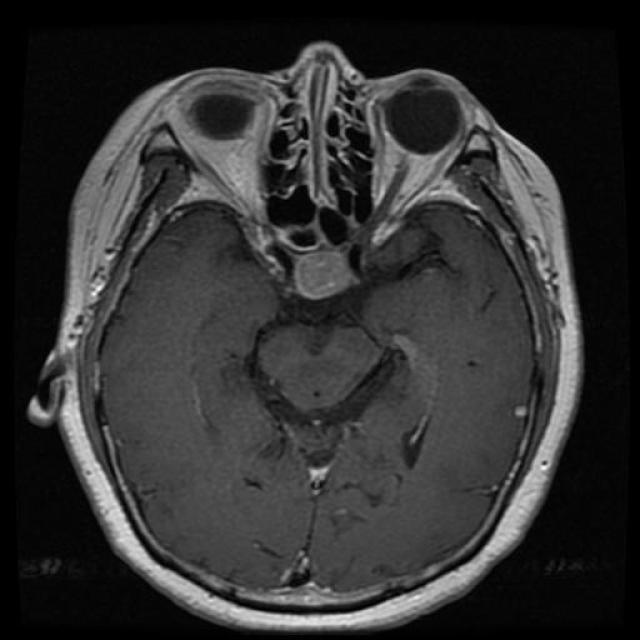pituitary: (268, 244, 374, 316)
